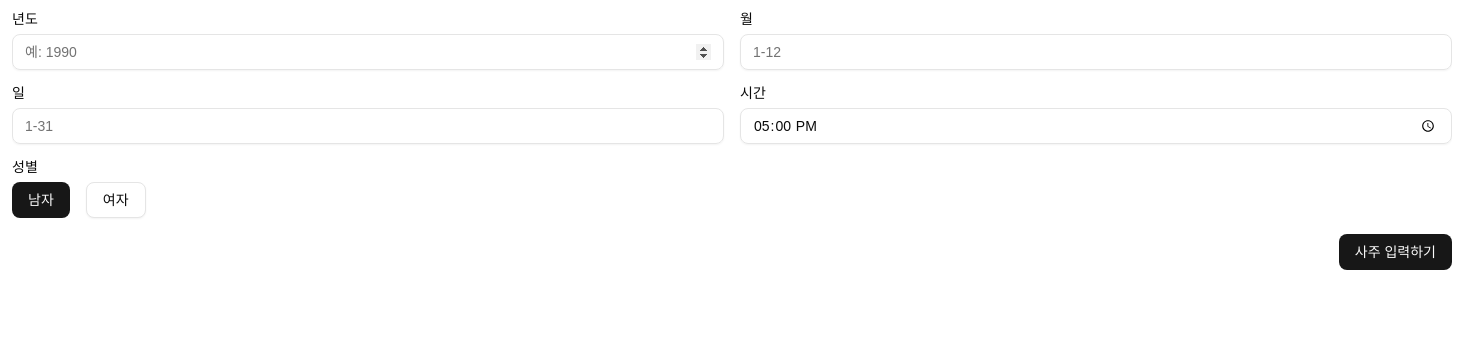
Test: InputBirthday Component › blocks future dates
This screenshot has width=1464, height=343.
In the number field labelled "년도": (368, 52) [12,34,724,70], type "3000"
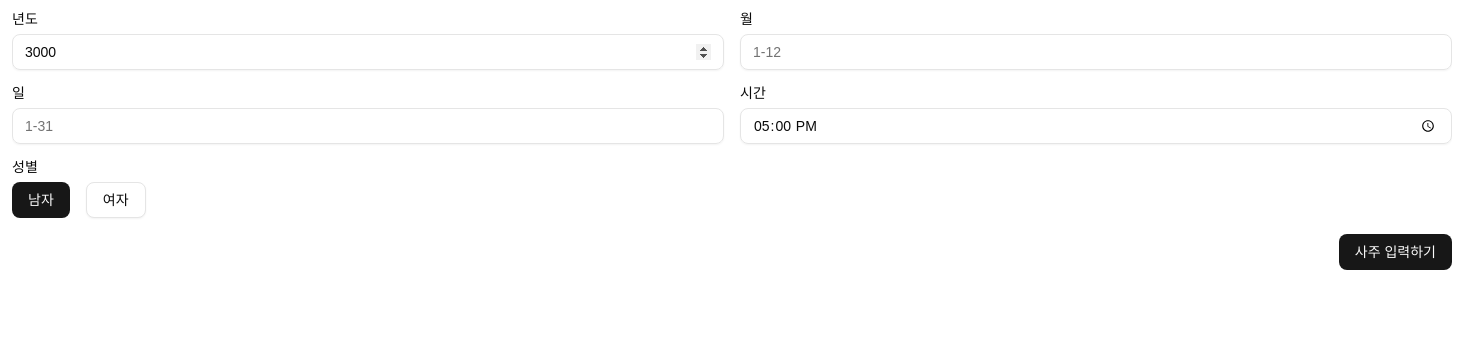
In the number field labelled "월": (1096, 52) [740,34,1452,70], type "4"
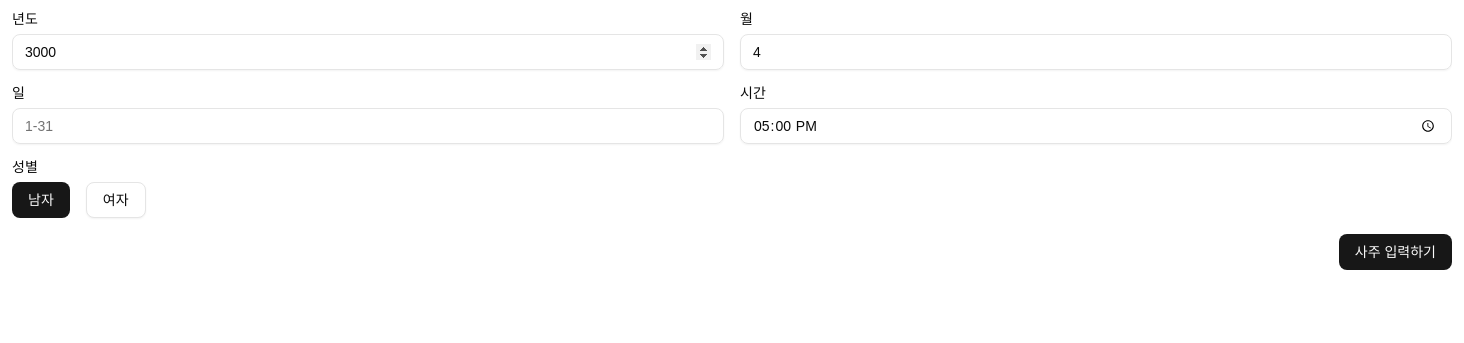
In the number field labelled "일": (368, 126) [12,108,724,144], type "32"
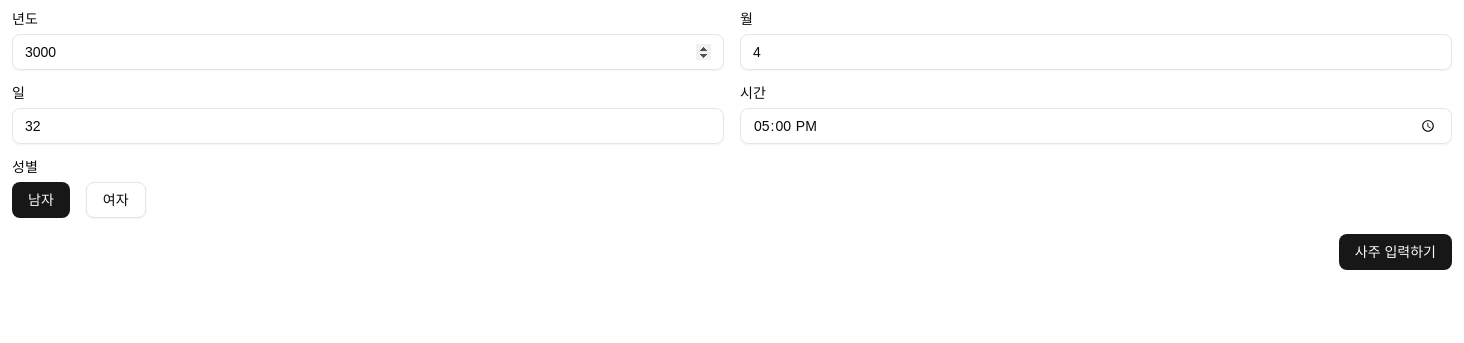
Replace the text in the time field labelled "시간" with "12:00": (1096, 126) [740,108,1452,144]
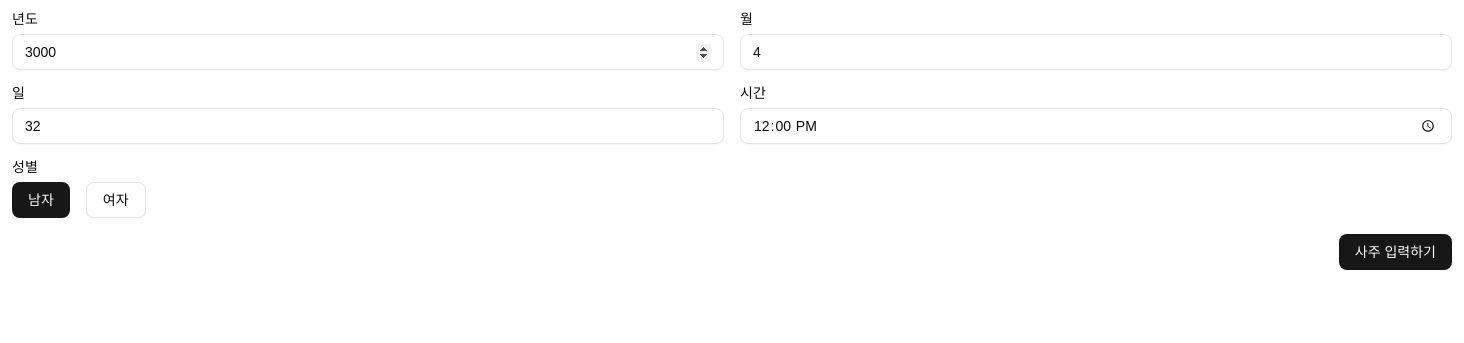
Click the button "사주 입력하기": click(1395, 252) [1339,234,1452,270]
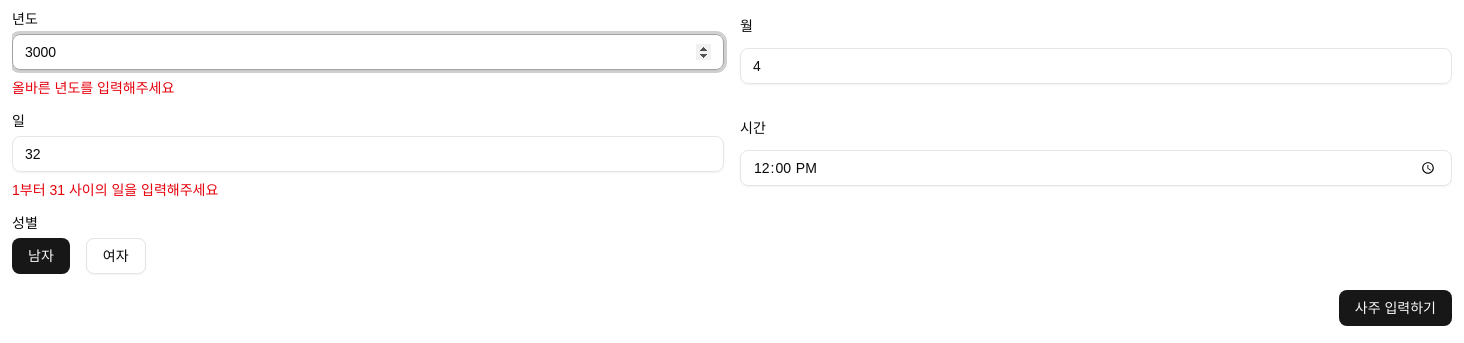
Check: the text "올바른 년도를 입력해주세요" is shown, box [12,80,174,96]
